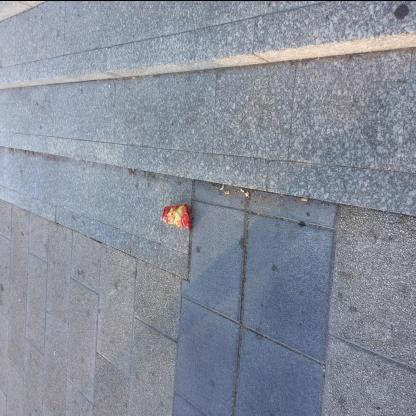plastik: (163, 204, 193, 232)
